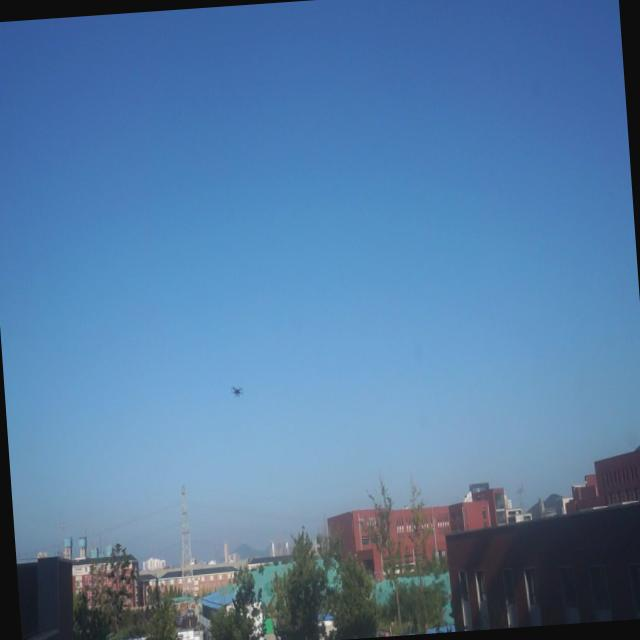drone: (228, 380, 244, 402)
